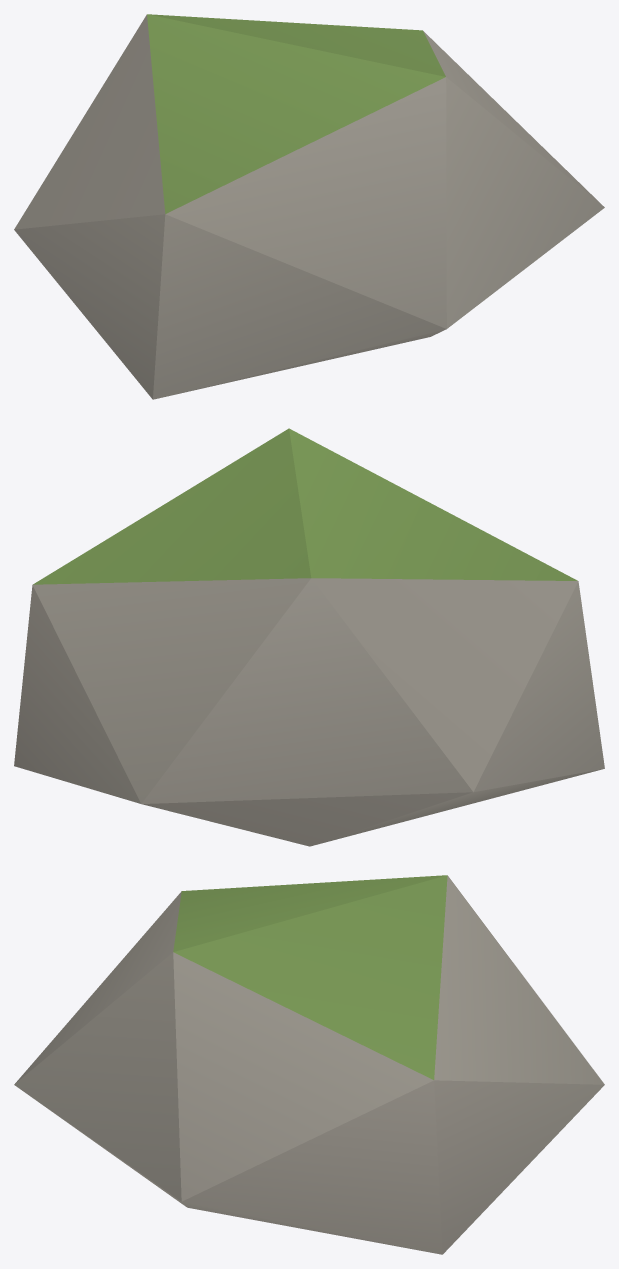
Rendered from rock_2.glb.
3 views of the same model, one above another, from view 1: azimuth 30°, elevation 25°; view 2: azimuth 150°, elevation 25°; view 3: azimuth 270°, elevation 25° (orthographic). The views are drawn at different scales.
Visible parts, largest first — view 1: rock_2; view 2: rock_2; view 3: rock_2.
Boxes of the visible parts, x1,y1,x2,y2 form: rock_2: (14, 14, 604, 399); rock_2: (14, 428, 604, 846); rock_2: (14, 875, 604, 1254).
Bounding box in the file's own units: 0.7652 × 0.4129 × 0.8525.
